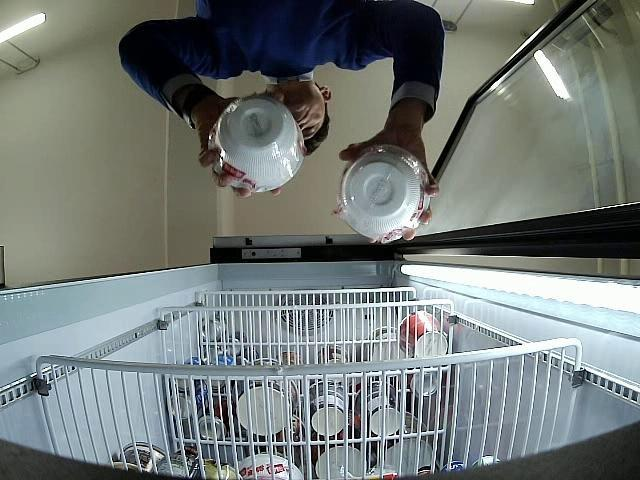09_yukGaeJang: (209, 98, 306, 192), (336, 147, 430, 239)
